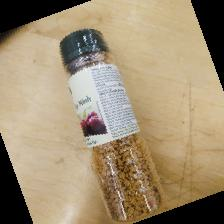TayNinh_green: (59, 27, 166, 224)
